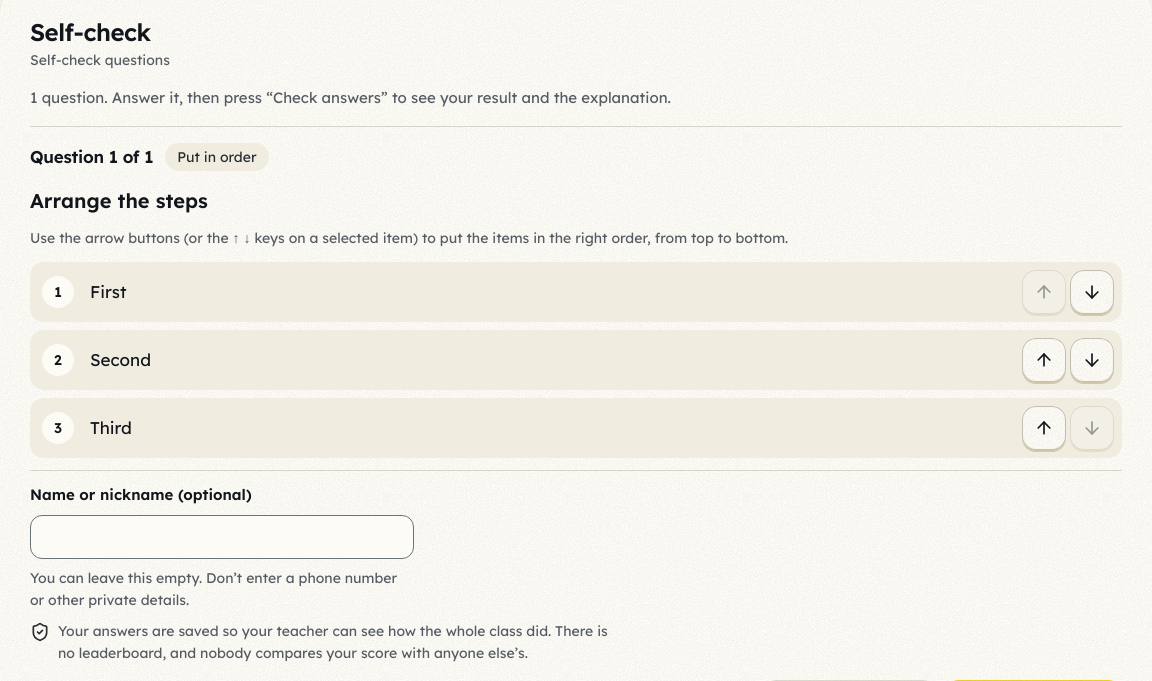
it: QuizBlock learner view › submits displayed ordering indices for translated questions without exposing the key
Press ArrowDown in the button "First", box x1=82 y1=270 x2=1014 y2=314
(page scrolled)
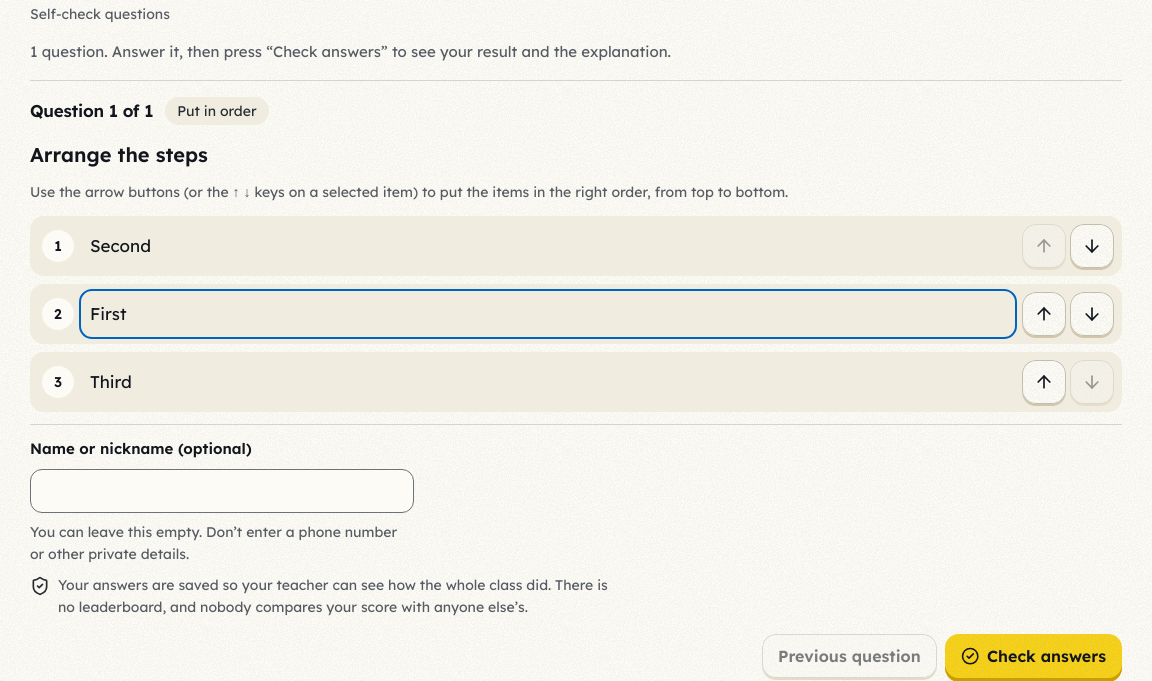
Click the button "Check answers".
click(1033, 656)  # box x1=945 y1=634 x2=1122 y2=678
(page scrolled)
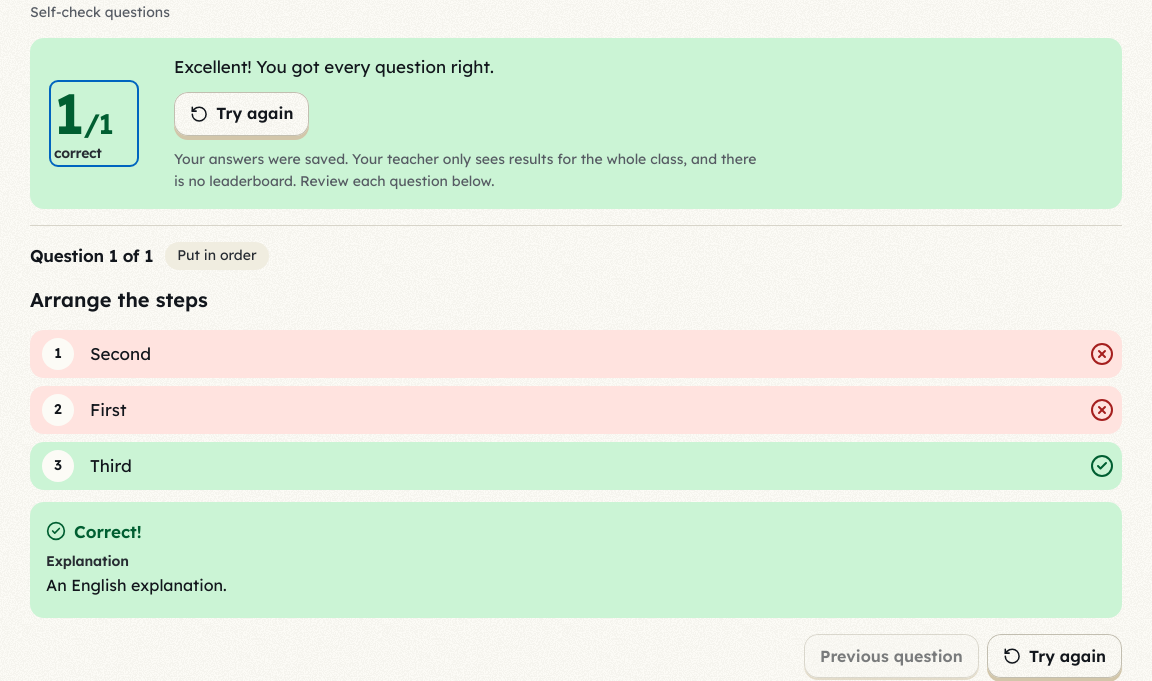
Now the text "An English explanation." is shown, box x1=46 y1=575 x2=227 y2=595
